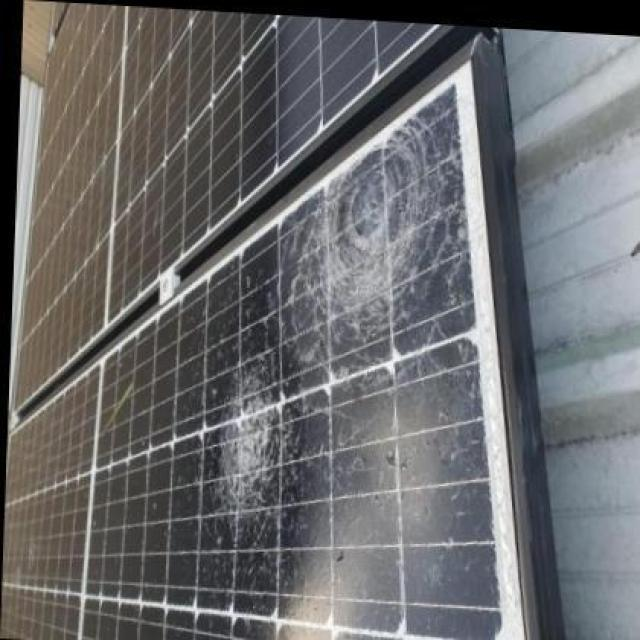cracked: (3, 82, 552, 637)
